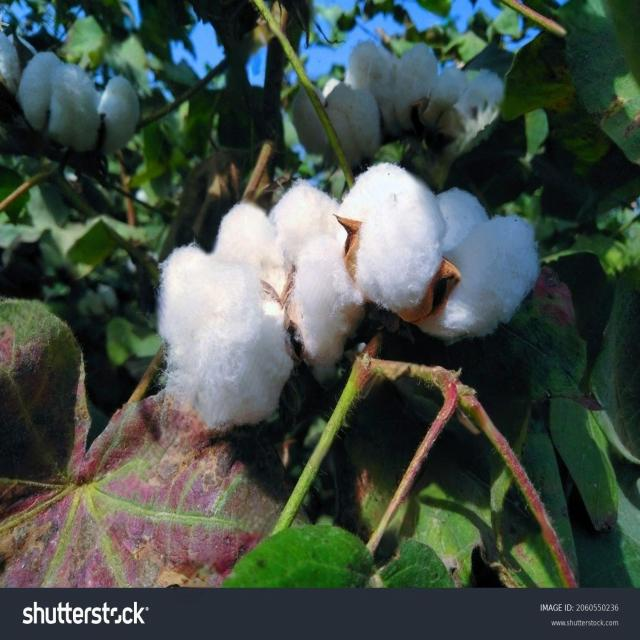Leaf: (149, 173, 361, 452), (325, 150, 553, 359), (267, 35, 513, 183), (6, 38, 149, 157)
